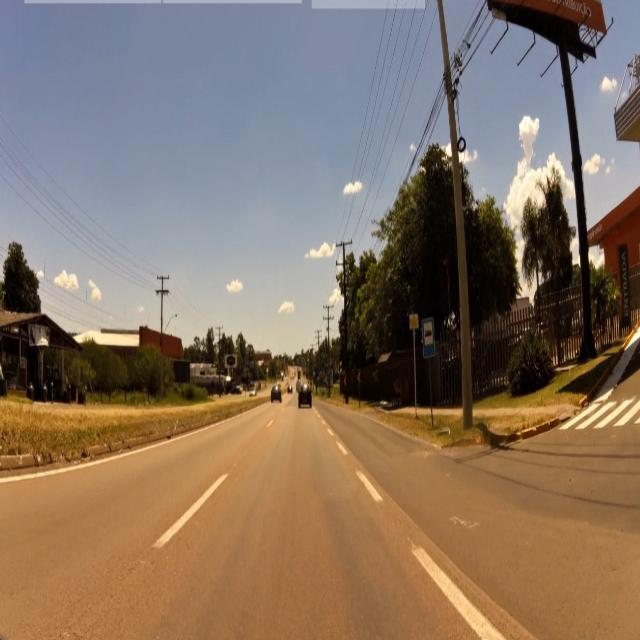S-14: (423, 317, 436, 358)
